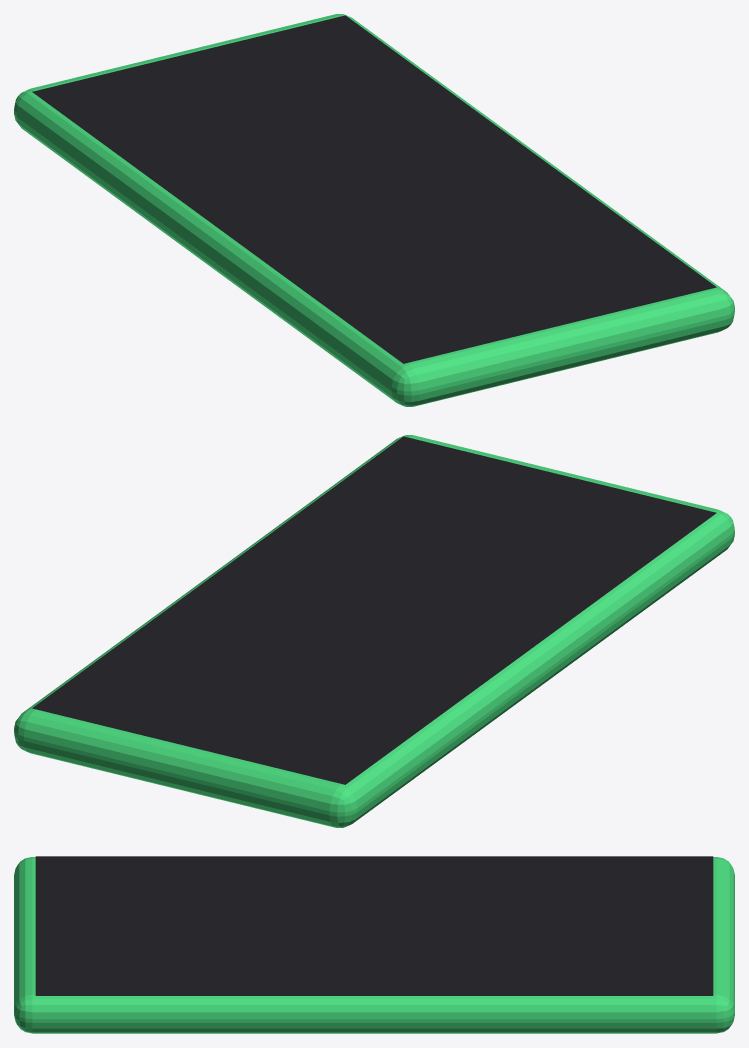
Rendered from Phone_130.glb.
3 renders of one model, top to bottom at view 1: azimuth 30°, elevation 25°; view 2: azimuth 150°, elevation 25°; view 3: azimuth 270°, elevation 25°, orthographic. The views are drawn at different scales.
Visible parts, largest first — view 1: Phone_Screen, Phone_Body; view 2: Phone_Screen, Phone_Body; view 3: Phone_Screen, Phone_Body.
Part boxes in pixels (box(x1,y1,x2,y2)): Phone_Screen: box(32, 15, 716, 363); Phone_Body: box(14, 14, 734, 406); Phone_Screen: box(32, 436, 716, 784); Phone_Body: box(14, 435, 734, 827); Phone_Screen: box(35, 856, 713, 995); Phone_Body: box(14, 857, 734, 1033).
Size of the model in its own units: 0.0761 by 0.0088 by 0.1529.
